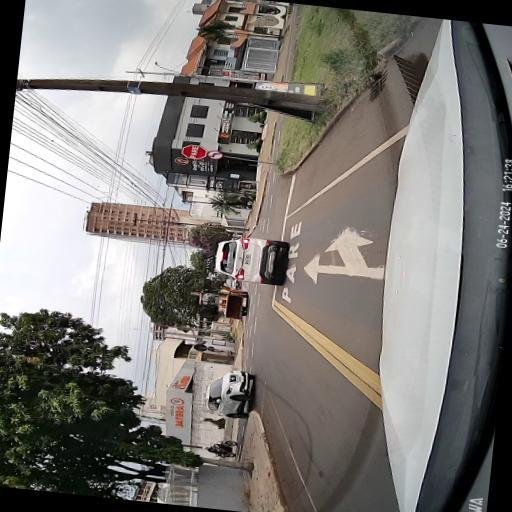R-1: (180, 142, 208, 160)
R-24a: (208, 148, 224, 158)
